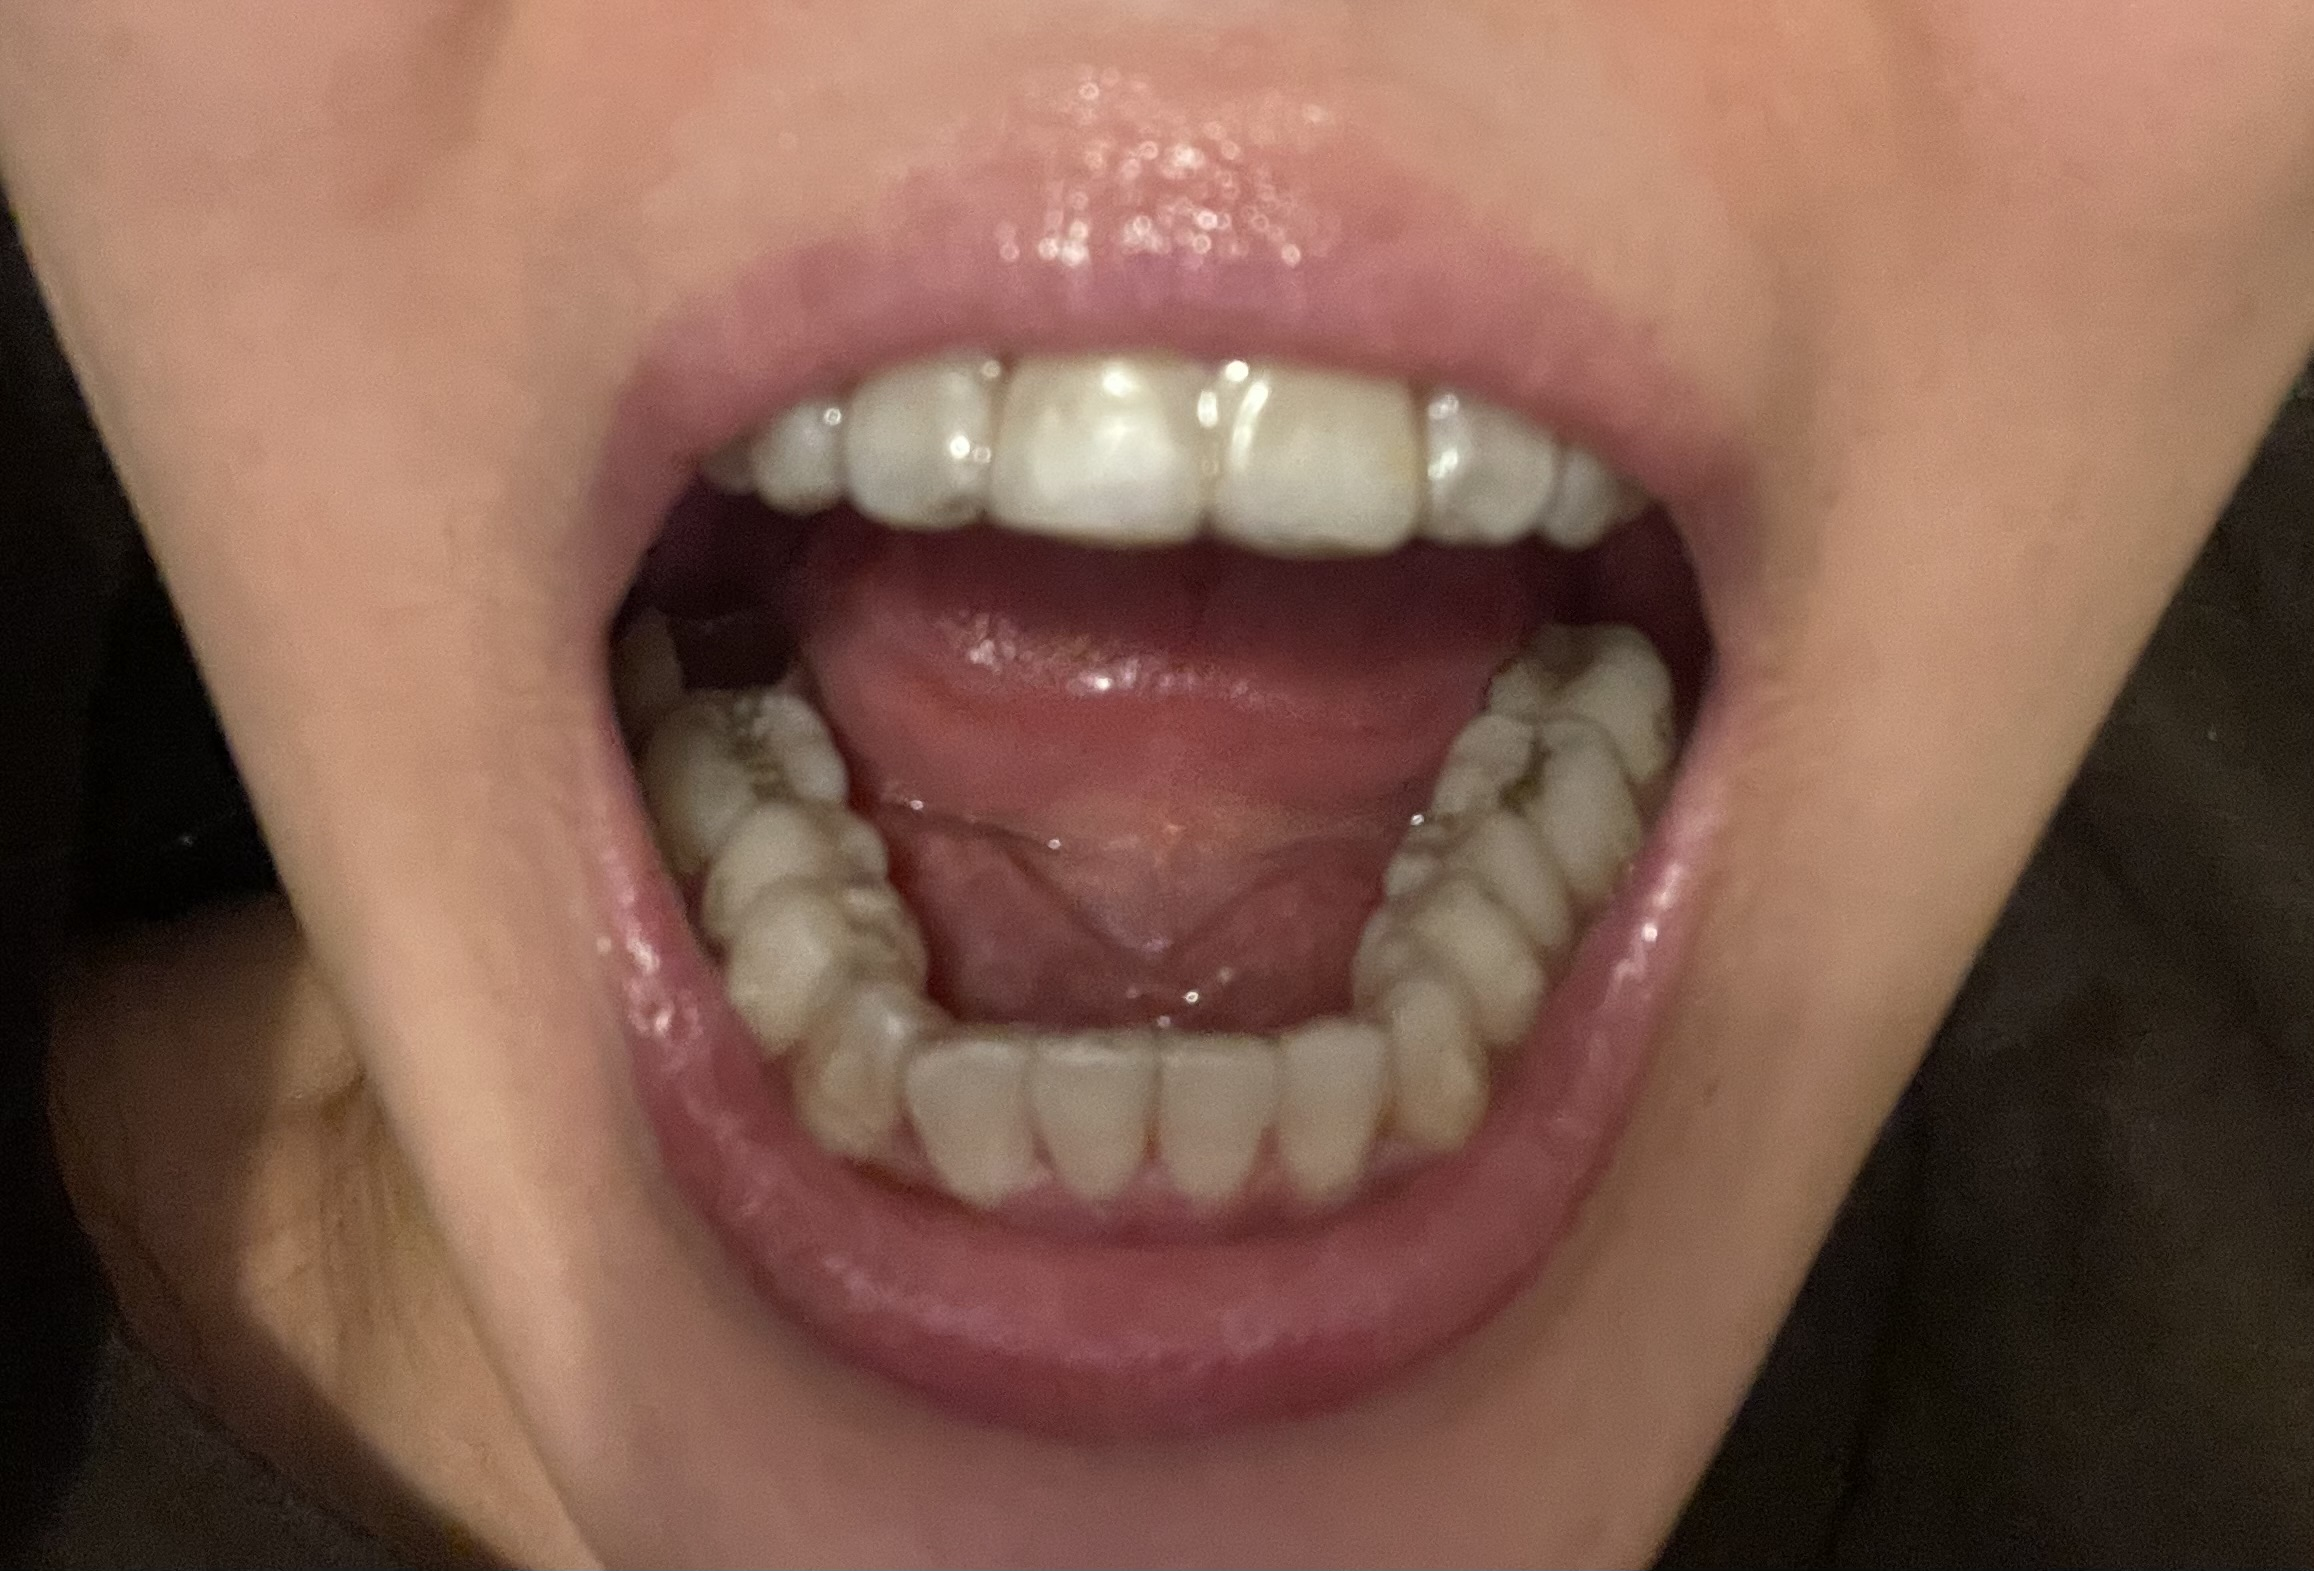teeth: (989, 365, 1196, 522), (729, 877, 924, 1038), (638, 694, 841, 847), (1446, 721, 1630, 887), (1224, 375, 1408, 530), (1367, 887, 1543, 1031), (706, 796, 884, 926), (1395, 810, 1565, 945), (847, 363, 978, 522), (617, 605, 792, 722), (1501, 622, 1655, 749), (798, 982, 908, 1154), (1283, 1024, 1385, 1201), (1026, 1056, 1146, 1196), (1157, 1054, 1269, 1201), (1385, 985, 1483, 1141), (910, 1056, 1019, 1194), (1432, 412, 1553, 533), (743, 402, 833, 503), (1555, 451, 1604, 542), (705, 442, 752, 482)
